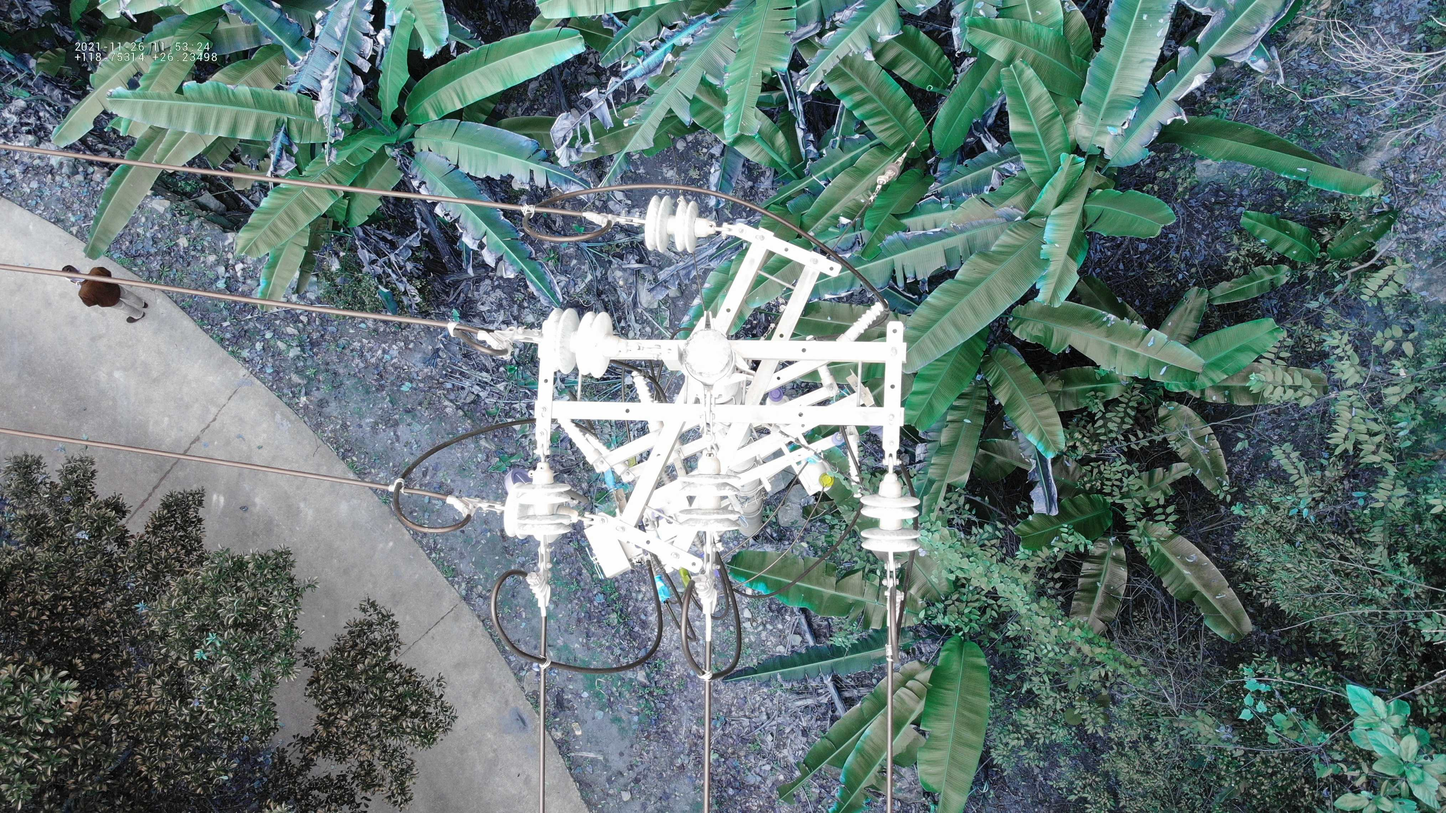severe_soiling_no_discharge_whole: (535, 308, 629, 382), (675, 448, 745, 538), (858, 470, 924, 554), (510, 459, 573, 542), (641, 194, 721, 257)
